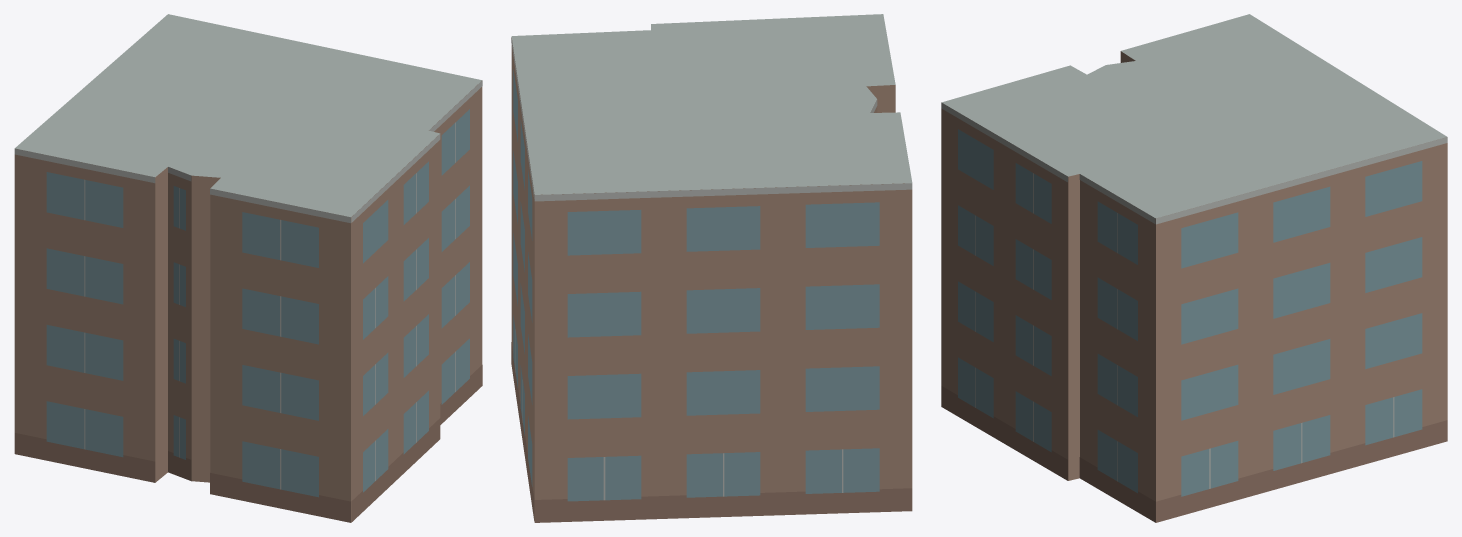
The model's file is survey-upis-32658415.glb.
The picture shows the model from 3 angles, left to right: view 1: azimuth 30°, elevation 25°; view 2: azimuth 150°, elevation 25°; view 3: azimuth 270°, elevation 25°; orthographic projection. The views are drawn at different scales.
Parts seen in each view (by area): view 1: survey-upis-32658415.tmp; view 2: survey-upis-32658415.tmp; view 3: survey-upis-32658415.tmp.
Boxes of the visible parts, <box> form: survey-upis-32658415.tmp: <box>14,14,482,522</box>; survey-upis-32658415.tmp: <box>511,14,912,522</box>; survey-upis-32658415.tmp: <box>941,14,1447,522</box>.
Bounding box in the file's own units: 17.8 × 12.35 × 18.62.
